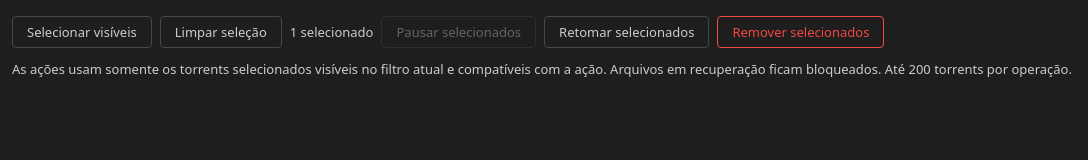
Test case: falhas parciais mantêm torrent selecionado e exibem nome e motivo
The image size is (1088, 160).
What coordinates should you click on to do the following:
click the button "Retomar selecionados"
I would click on:
 (627, 32)
Its box is [544,16,709,48].
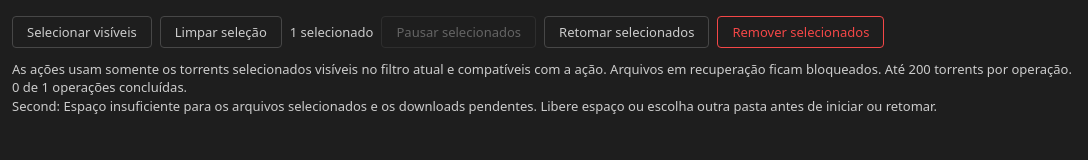
Expected: the list item is shown, [12,97,937,115]
